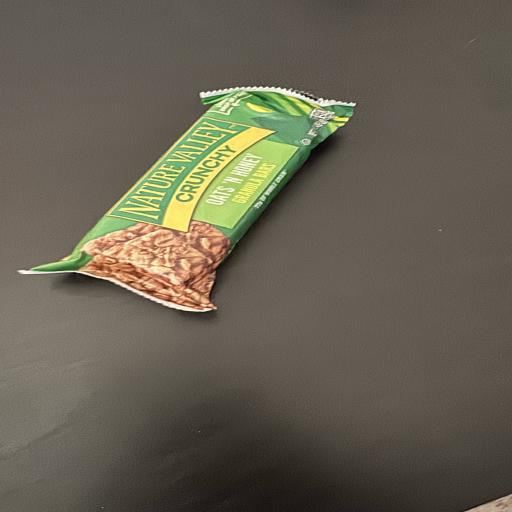granola: (20, 87, 354, 310)
